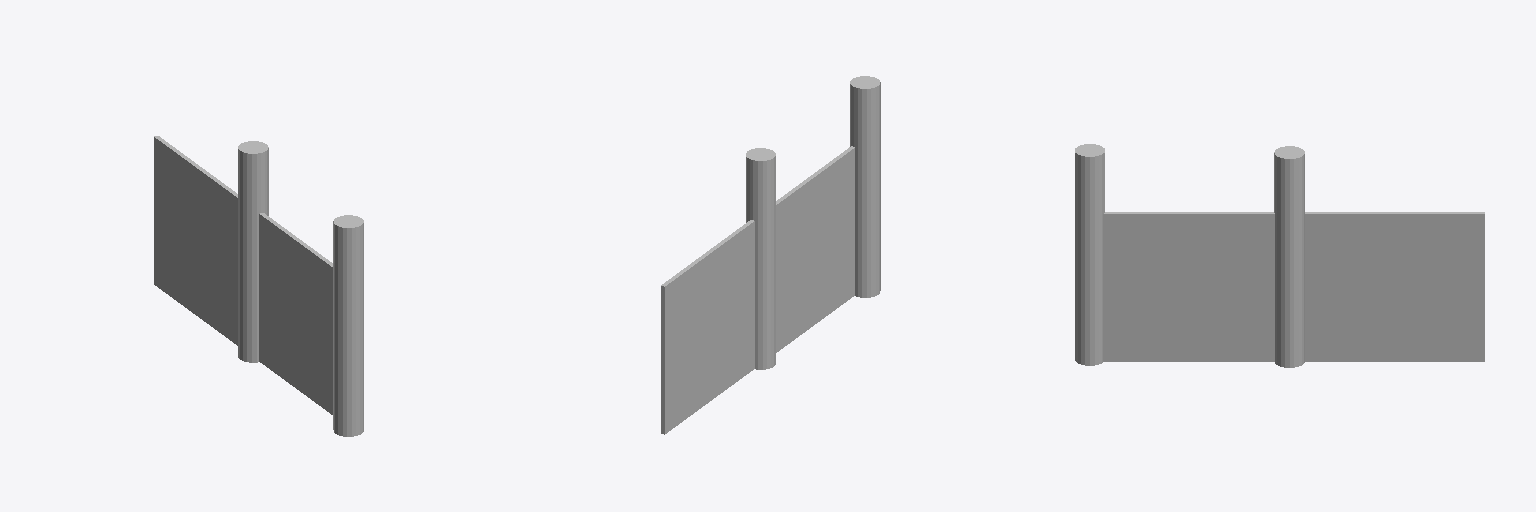
File: walldouble4.obj
3 renders of one model, left to right at view 1: azimuth 30°, elevation 25°; view 2: azimuth 150°, elevation 25°; view 3: azimuth 270°, elevation 25°, orthographic.
Visible parts, largest first — view 1: walldouble4; view 2: walldouble4; view 3: walldouble4.
Part boxes in pixels (bbox=[...]): walldouble4: bbox=[154, 136, 363, 436]; walldouble4: bbox=[661, 76, 880, 434]; walldouble4: bbox=[1075, 144, 1484, 367].
Bounding box in the file's own units: 3.83 × 24.63 × 43.88.